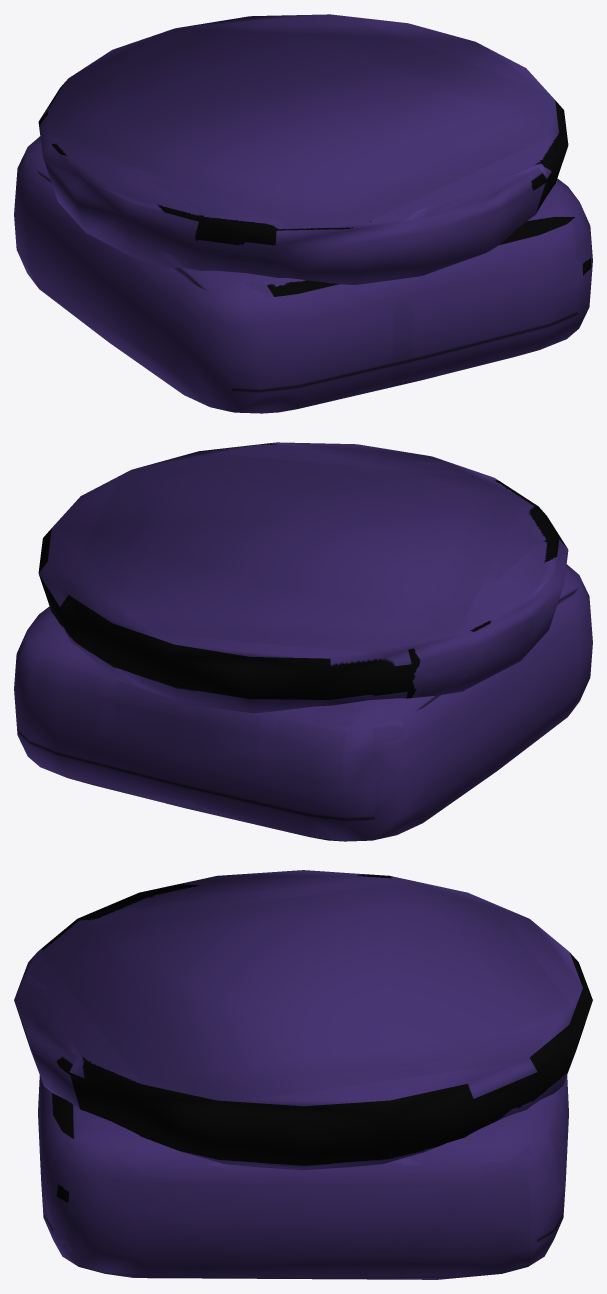
File: Estela_GuanteIzq.fbx
The picture shows the model from 3 angles, top to bottom: view 1: azimuth 30°, elevation 25°; view 2: azimuth 150°, elevation 25°; view 3: azimuth 270°, elevation 25°; orthographic projection. The views are drawn at different scales.
Parts seen in each view (by area): view 1: Estela_GuanteIzq; view 2: Estela_GuanteIzq; view 3: Estela_GuanteIzq.
Part boxes in pixels (left/top/right/bottom): Estela_GuanteIzq: left=14, top=14, right=592, bottom=413; Estela_GuanteIzq: left=14, top=442, right=592, bottom=841; Estela_GuanteIzq: left=14, top=870, right=592, bottom=1279.
Size of the model in its own units: 1.26 by 0.4943 by 1.26.
